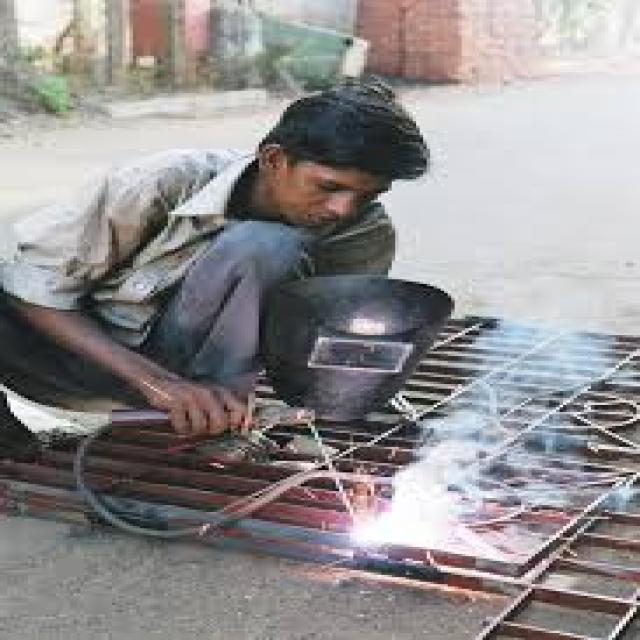without_helmet: (156, 84, 542, 236)
